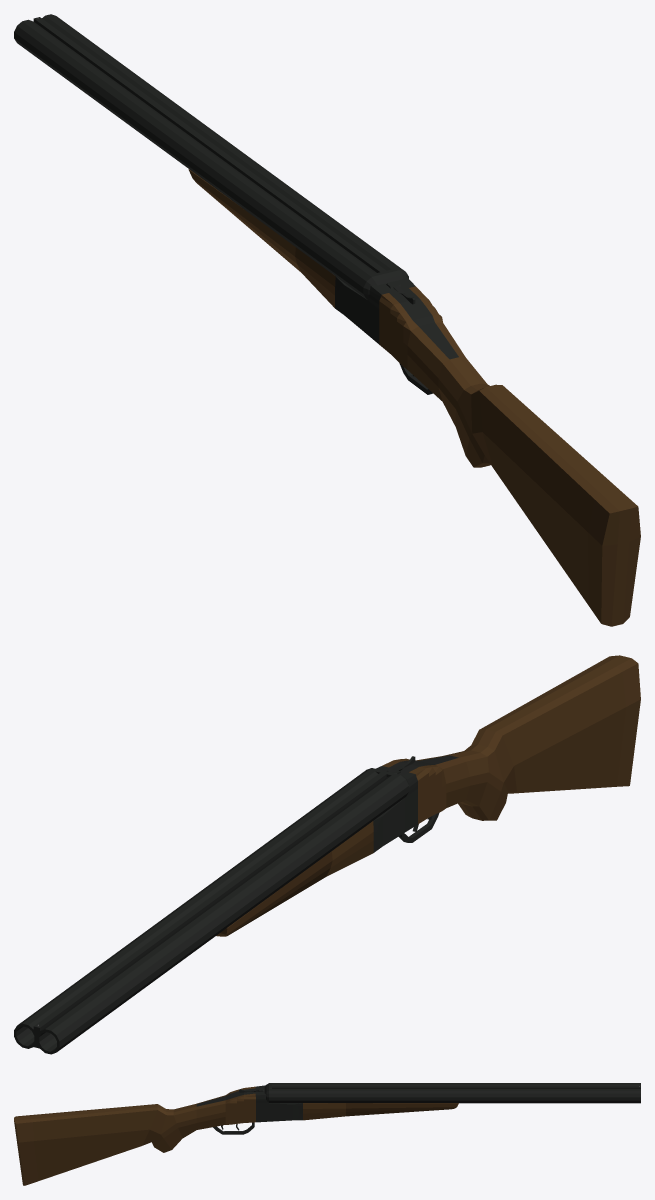
Rendered from Coach.fbx.
3 renders of one model, top to bottom at view 1: azimuth 30°, elevation 25°; view 2: azimuth 150°, elevation 25°; view 3: azimuth 270°, elevation 25°, orthographic. The views are drawn at different scales.
Visible parts, largest first — view 1: Stock, Barrel, Assembly1, Forearm; view 2: Stock, Barrel, Forearm, Assembly1; view 3: Stock, Barrel, Forearm, Assembly1, Trigger Guard.
Part boxes in pixels (box(x1,y1,x2,y2)): Stock: box(379, 286, 640, 626); Barrel: box(14, 14, 402, 296); Assembly1: box(338, 277, 458, 359); Forearm: box(188, 169, 335, 307); Stock: box(382, 655, 640, 824); Barrel: box(14, 770, 406, 1054); Forearm: box(216, 821, 373, 936); Assembly1: box(376, 755, 458, 846); Stock: box(14, 1086, 255, 1185); Barrel: box(272, 1083, 640, 1103); Forearm: box(303, 1103, 458, 1120); Assembly1: box(196, 1085, 299, 1122); Trigger Guard: box(213, 1122, 254, 1134).
Bounding box in the file's own units: 0.0457 × 0.1768 × 1.02.
